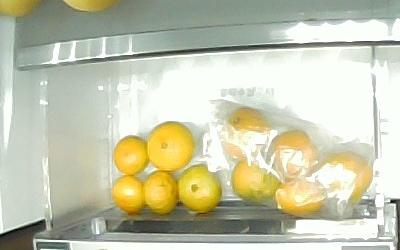tangerine: (146, 120, 194, 171), (176, 162, 222, 213), (142, 169, 179, 215), (112, 134, 150, 175), (110, 174, 146, 214)
tangerine_vinyl: (315, 150, 372, 202), (264, 128, 318, 181), (219, 105, 270, 161), (229, 154, 281, 201), (273, 175, 326, 215)
